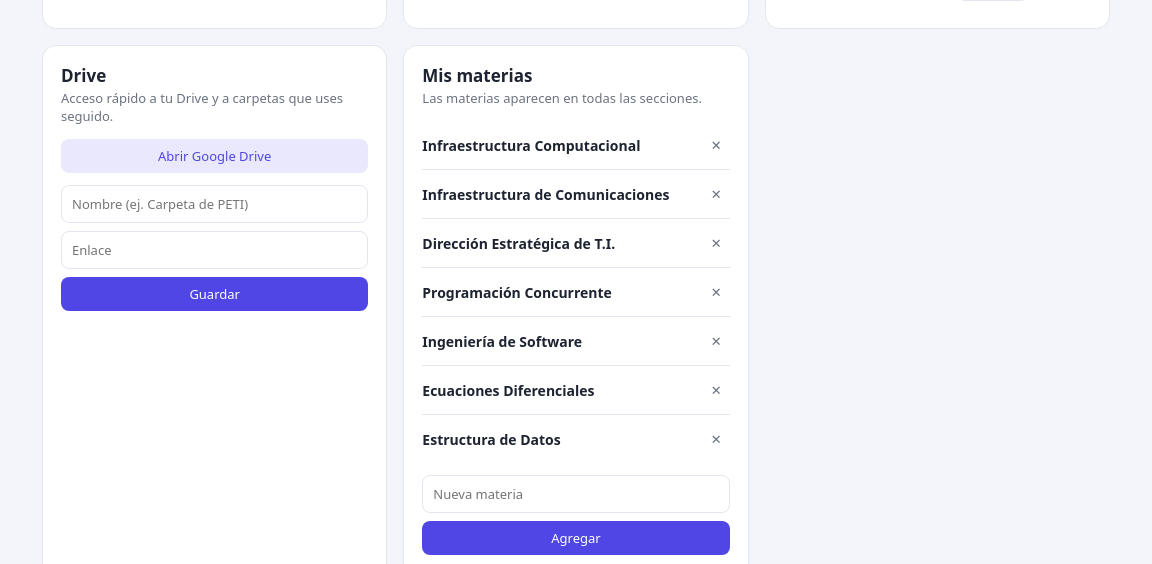
Drive › agrega un enlace, lo abre y lo quita
(page scrolled)
Type "Carpeta de PETI" into the field with placeholder "Nombre (ej. Carpeta de PETI)" at (215, 204), box [61,185,368,223]
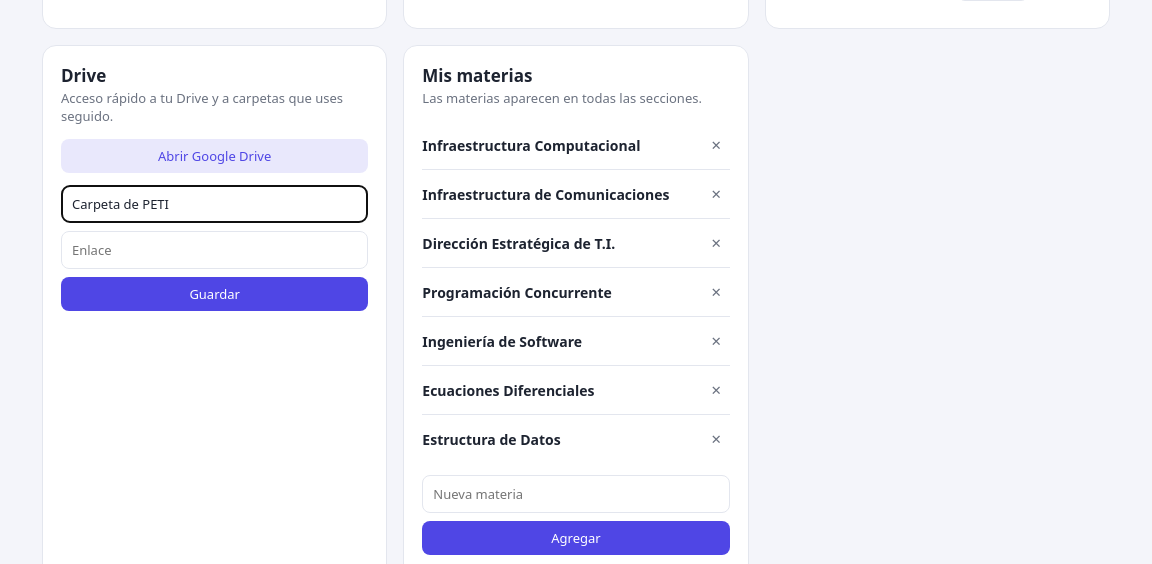
Type "drive.google.com/drive/folders/abc" into the field with placeholder "Enlace" at (215, 250), box [61,231,368,269]
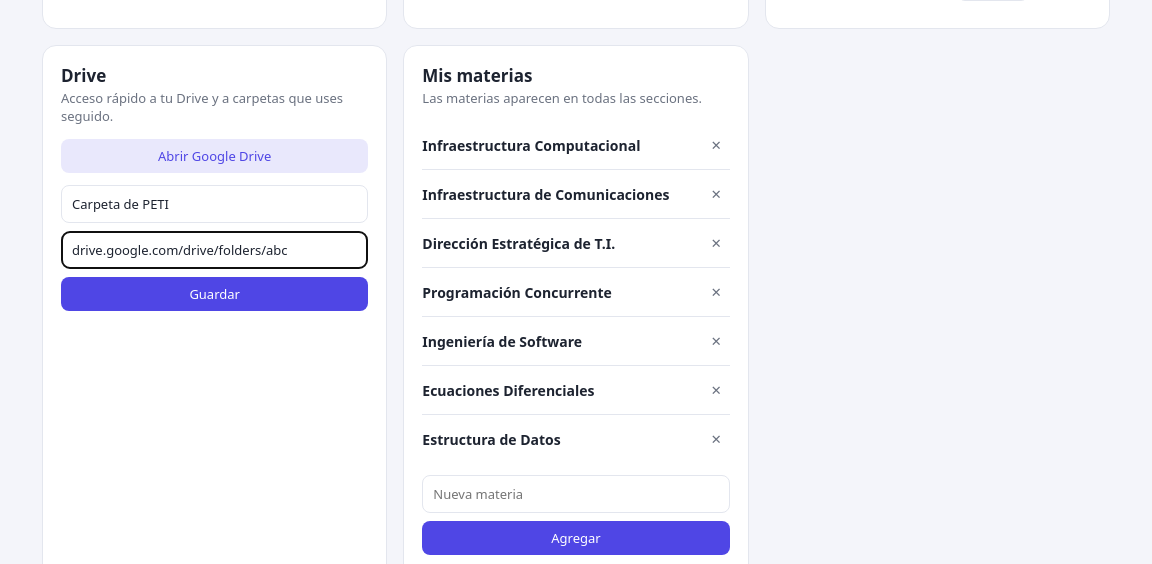
Click the button "Guardar" at (215, 294), box [61,277,368,311]
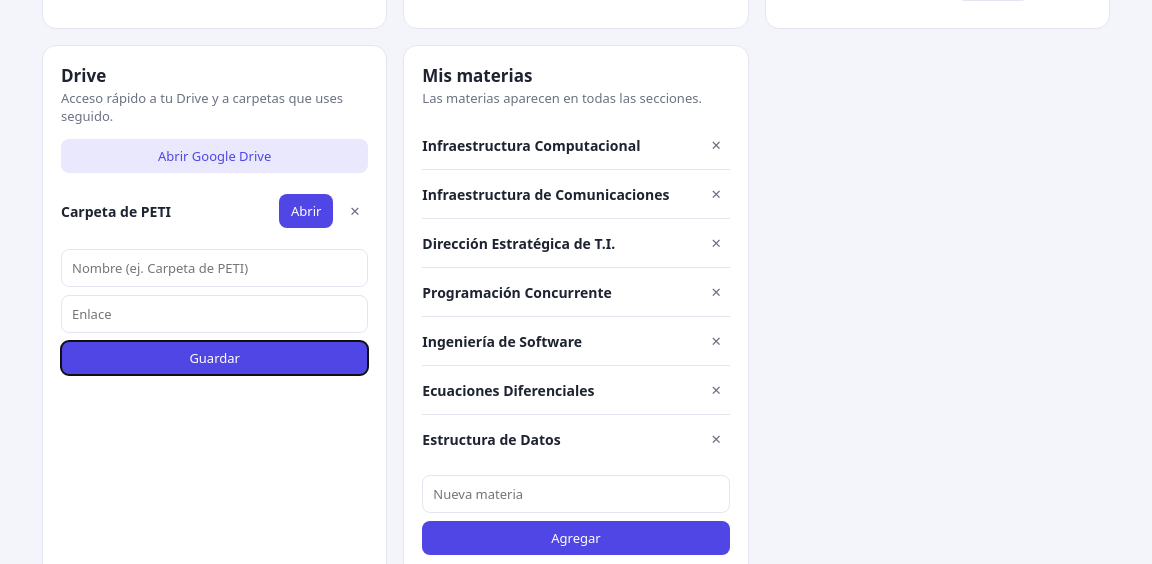
Click the button named "Abrir Carpeta de PETI" at (306, 211), box [279,194,333,228]
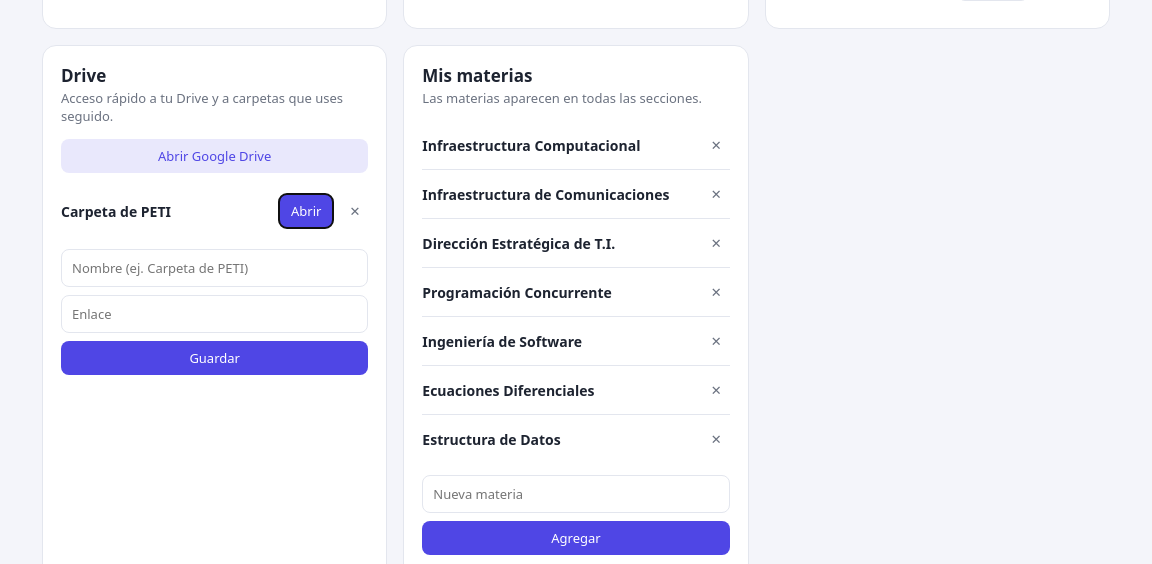
Click the button named "Quitar Carpeta de PETI" at (355, 211), box [341,196,368,226]
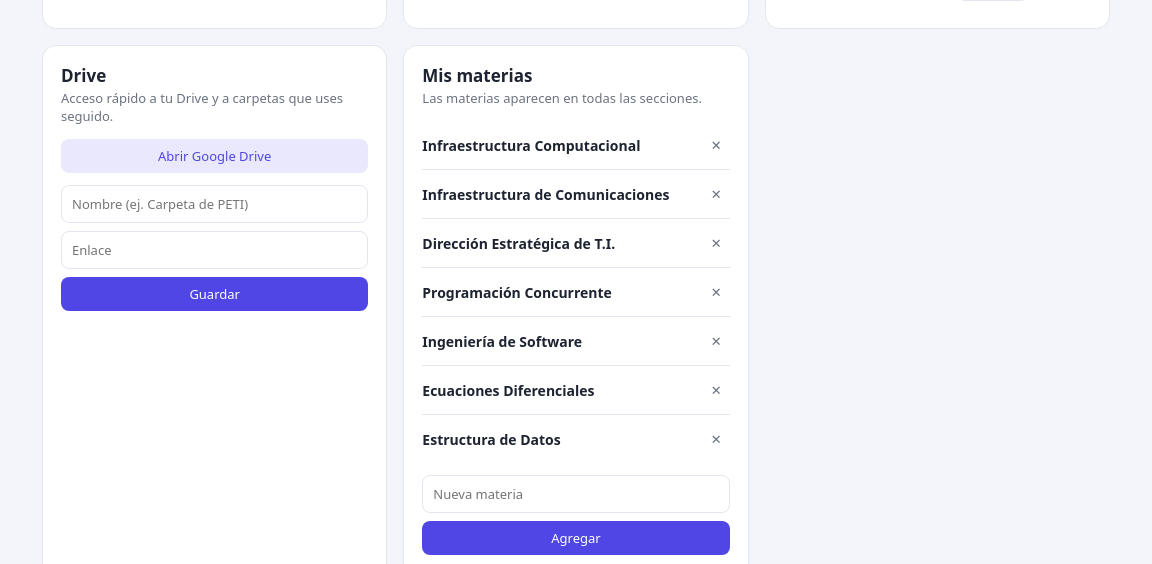
Expected: no the list item "Carpeta de PETI Abrir ✕" are shown
